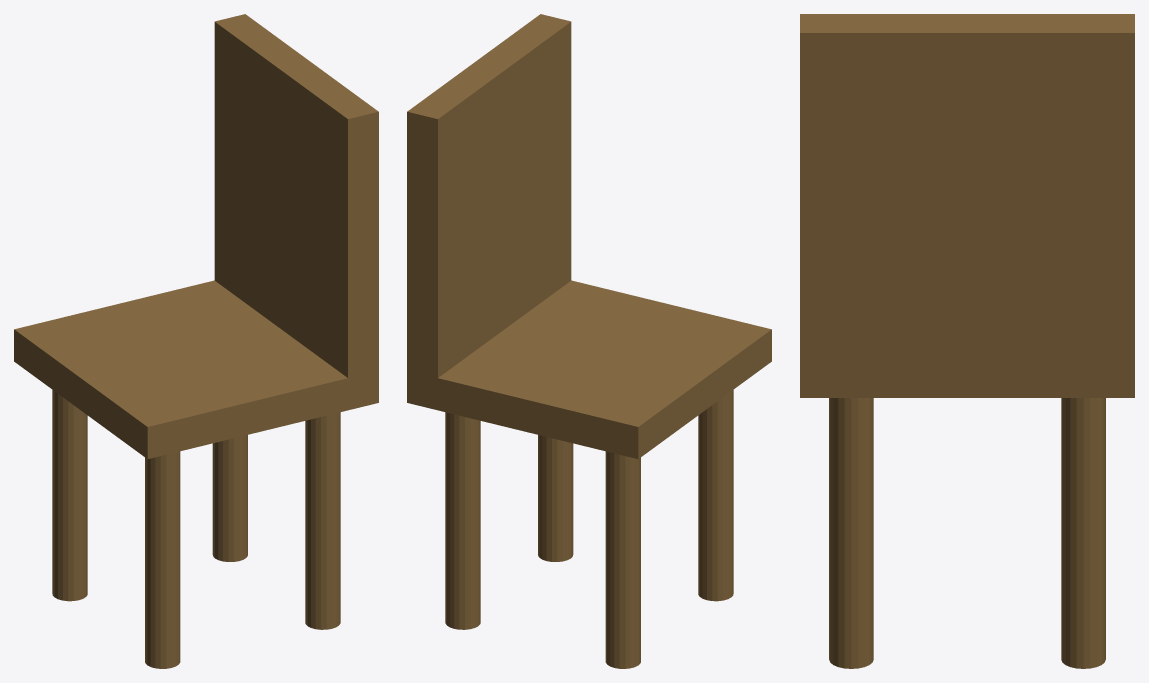
3 views of the same model, side by side, from view 1: azimuth 30°, elevation 25°; view 2: azimuth 150°, elevation 25°; view 3: azimuth 270°, elevation 25° (orthographic). The views are drawn at different scales.
Visible parts, largest first — view 1: Mesh_Mesh_head_geo.001_lambert2SG.001; view 2: Mesh_Mesh_head_geo.001_lambert2SG.001; view 3: Mesh_Mesh_head_geo.001_lambert2SG.001.
Boxes of the visible parts, x1=… form: Mesh_Mesh_head_geo.001_lambert2SG.001: x1=14, y1=14, x2=378, y2=668; Mesh_Mesh_head_geo.001_lambert2SG.001: x1=407, y1=14, x2=771, y2=668; Mesh_Mesh_head_geo.001_lambert2SG.001: x1=800, y1=14, x2=1134, y2=668.
Bounding box in the file's own units: 15 × 32.05 × 15.
